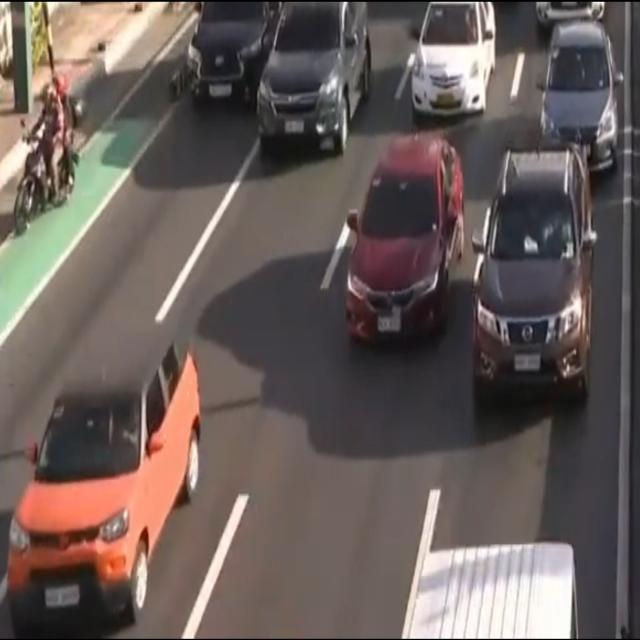Motorcycle: (14, 70, 83, 244)
Pick-up: (403, 538, 581, 640)
SUV: (476, 154, 591, 399), (258, 0, 372, 144), (187, 0, 281, 114)
Sedan: (6, 319, 203, 637), (343, 142, 465, 348), (536, 25, 620, 178), (412, 0, 496, 116)
